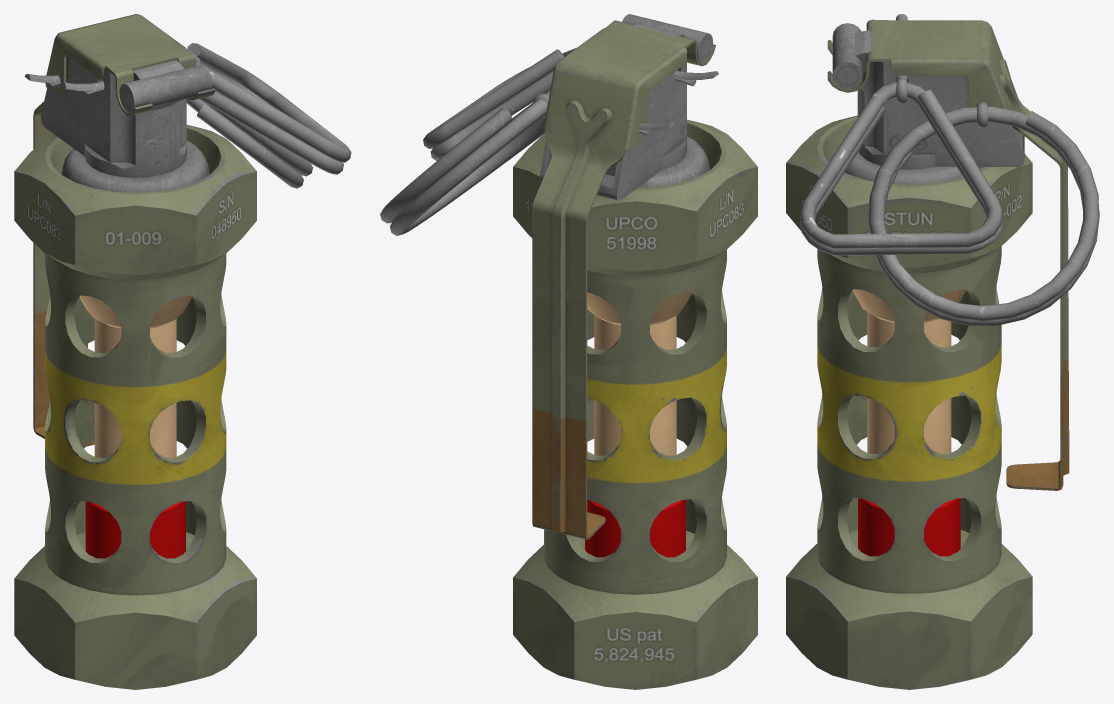
File: flashbang.glb
3 views of the same model, side by side, from view 1: azimuth 30°, elevation 25°; view 2: azimuth 150°, elevation 25°; view 3: azimuth 270°, elevation 25° (orthographic).
Visible parts, largest first — view 1: Base_LP_lambert1_0, Cap_LP_lambert1_0, Flap_LP_lambert1_0, pHelix11_lambert1_0, pHelix9_lambert1_0; view 2: Base_LP_lambert1_0, Flap_LP_lambert1_0, pHelix9_lambert1_0, Cap_LP_lambert1_0, pHelix11_lambert1_0; view 3: Base_LP_lambert1_0, Flap_LP_lambert1_0, pHelix9_lambert1_0, Cap_LP_lambert1_0, pHelix11_lambert1_0.
Boxes of the visible parts, x1,y1,x2,y2 form: Base_LP_lambert1_0: (14, 125, 256, 689); Cap_LP_lambert1_0: (41, 56, 212, 177); Flap_LP_lambert1_0: (33, 14, 215, 446); pHelix11_lambert1_0: (187, 43, 351, 174); pHelix9_lambert1_0: (186, 98, 313, 188); Base_LP_lambert1_0: (513, 119, 757, 689); Flap_LP_lambert1_0: (532, 20, 715, 539); pHelix9_lambert1_0: (380, 90, 550, 235); Cap_LP_lambert1_0: (539, 14, 713, 200); pHelix11_lambert1_0: (423, 47, 576, 160); Base_LP_lambert1_0: (786, 115, 1032, 689); Flap_LP_lambert1_0: (827, 19, 1069, 490); pHelix9_lambert1_0: (868, 106, 1099, 325); Cap_LP_lambert1_0: (832, 23, 1024, 169); pHelix11_lambert1_0: (799, 82, 1003, 255).
Size of the model in its own units: 3.65 by 7.26 by 3.4.
Materials: 1 (1 with a texture image).
